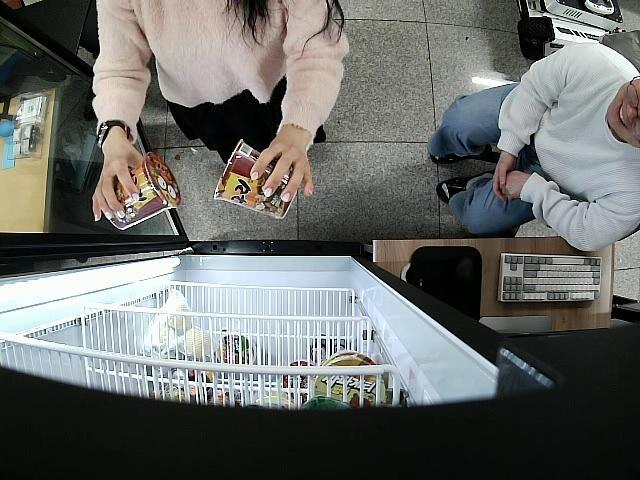06_nuguri_S: (214, 139, 299, 218), (107, 152, 182, 229)
